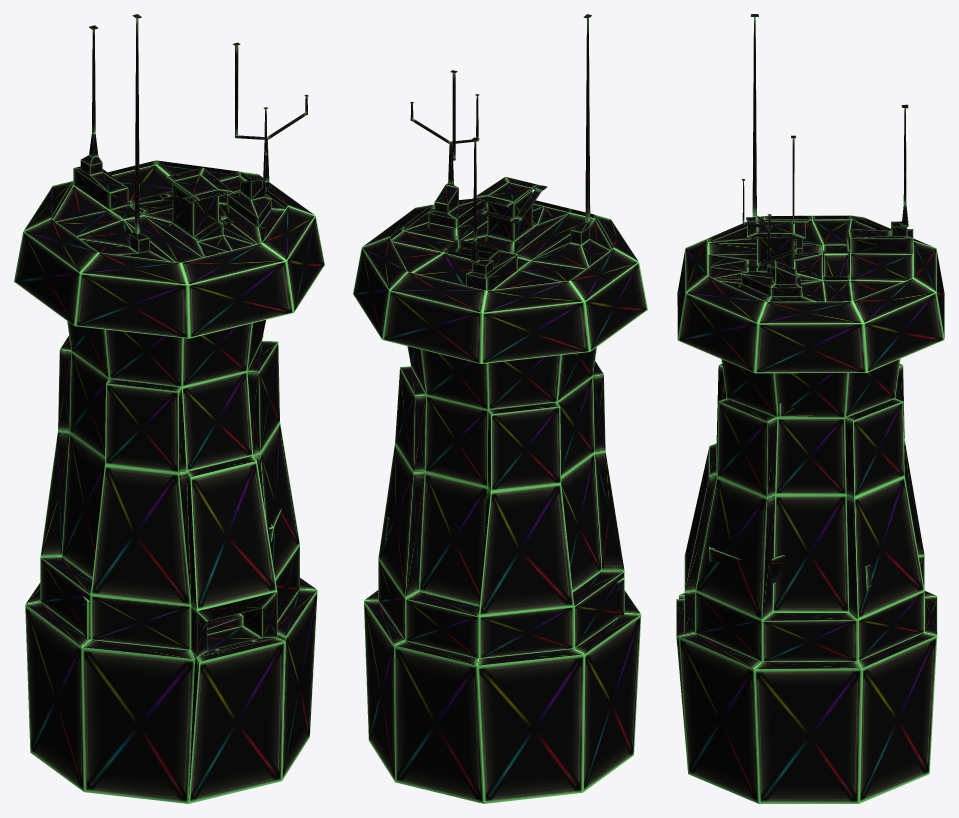
File: octagonal_tower_100m_physics.DAE
3 views of the same model, side by side, from view 1: azimuth 30°, elevation 25°; view 2: azimuth 150°, elevation 25°; view 3: azimuth 270°, elevation 25° (orthographic). The views are drawn at different scales.
Visible parts, largest first — view 1: TowerBodyPhysics; view 2: TowerBodyPhysics; view 3: TowerBodyPhysics.
Part boxes in pixels (x1,y1,x2,y2): TowerBodyPhysics: (14,14,324,803); TowerBodyPhysics: (353,14,647,803); TowerBodyPhysics: (676,14,944,803).
Size of the model in its own units: 62.53 by 185 by 62.49.
